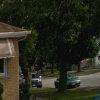Tree: (29, 2, 89, 93)
